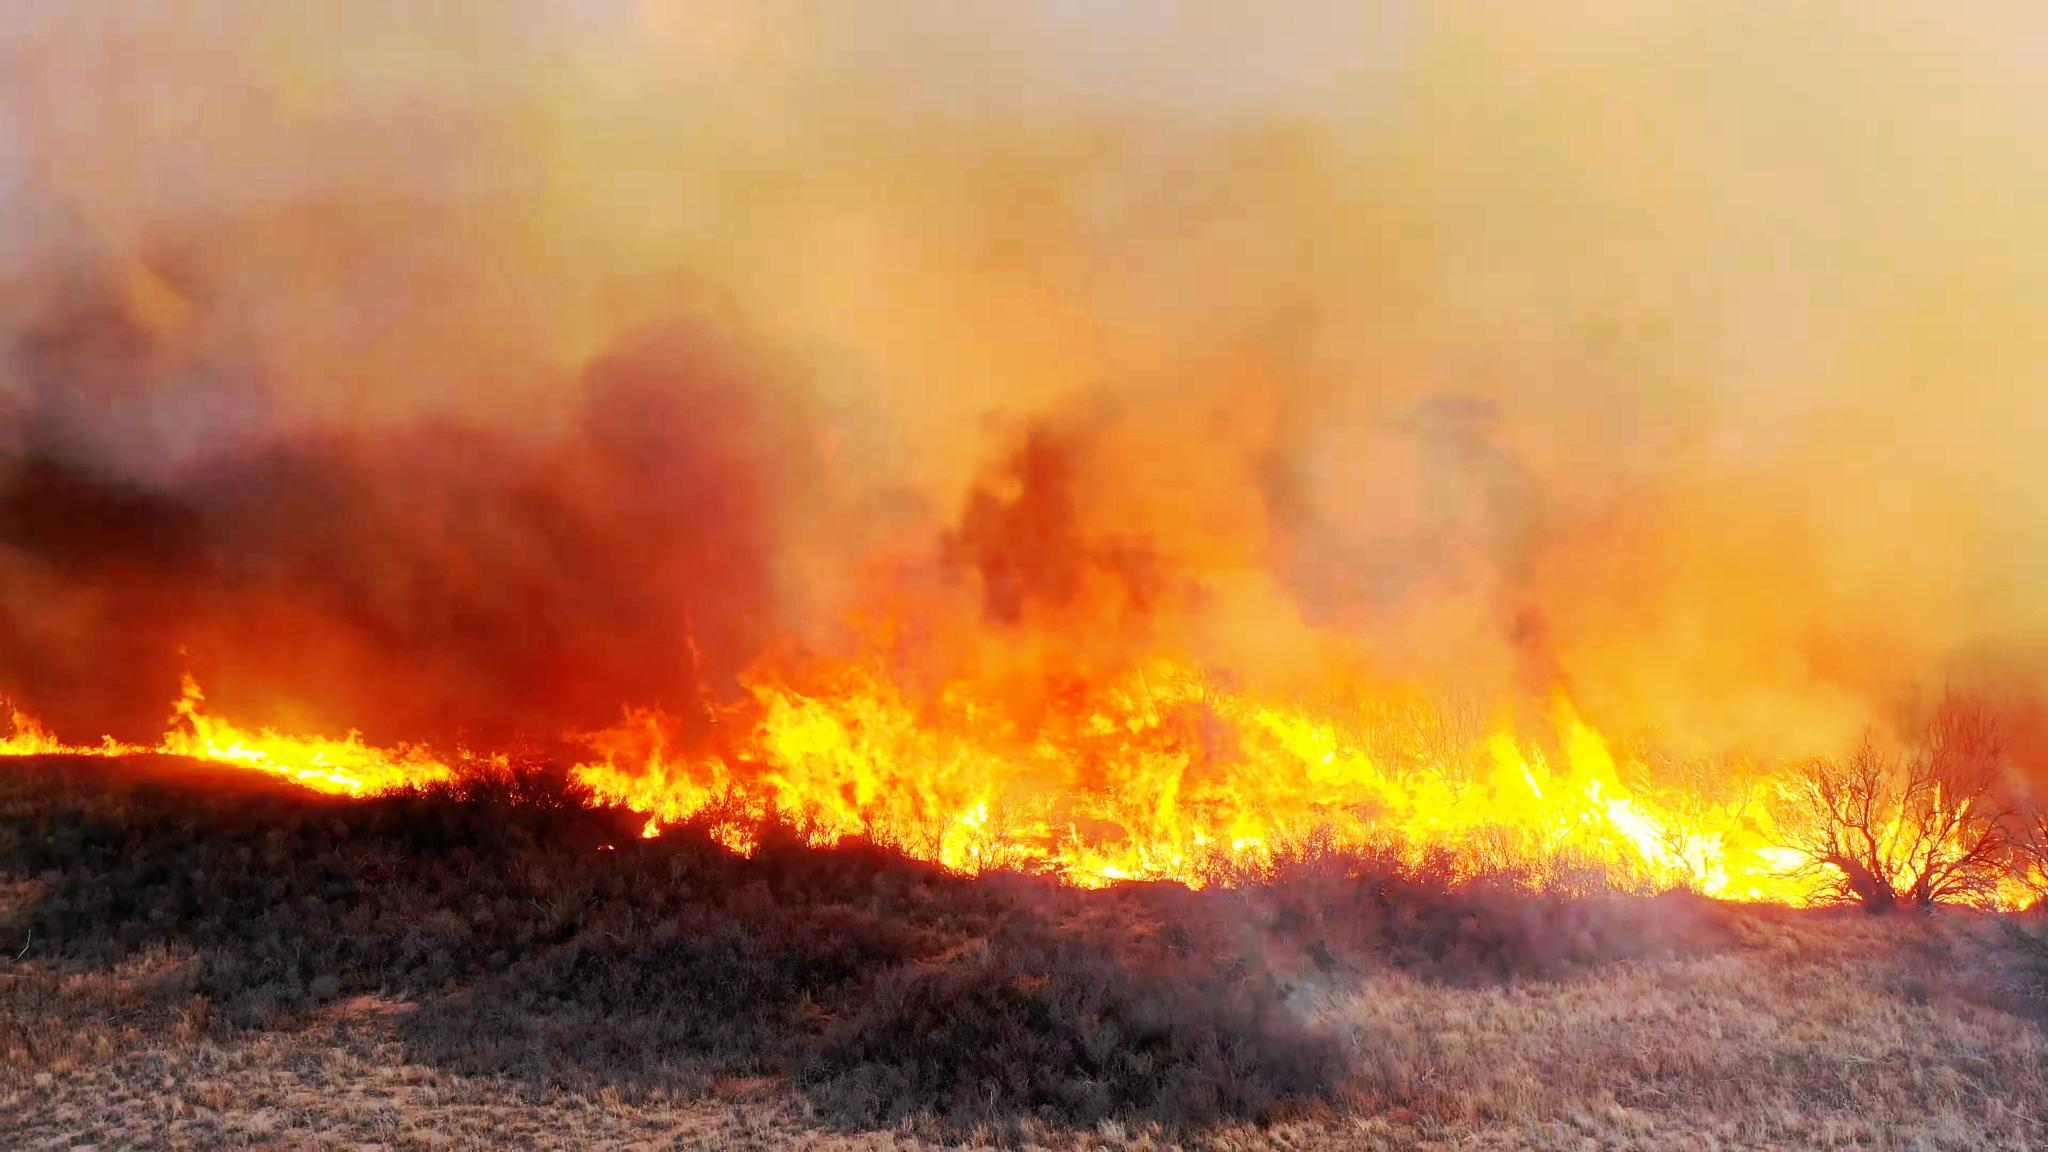fire: (896, 623, 1265, 882), (1255, 681, 1646, 876), (615, 617, 883, 843), (1658, 762, 1976, 913), (163, 672, 419, 805)
smoke: (8, 142, 551, 654), (1297, 235, 1667, 637), (942, 430, 1137, 622)
